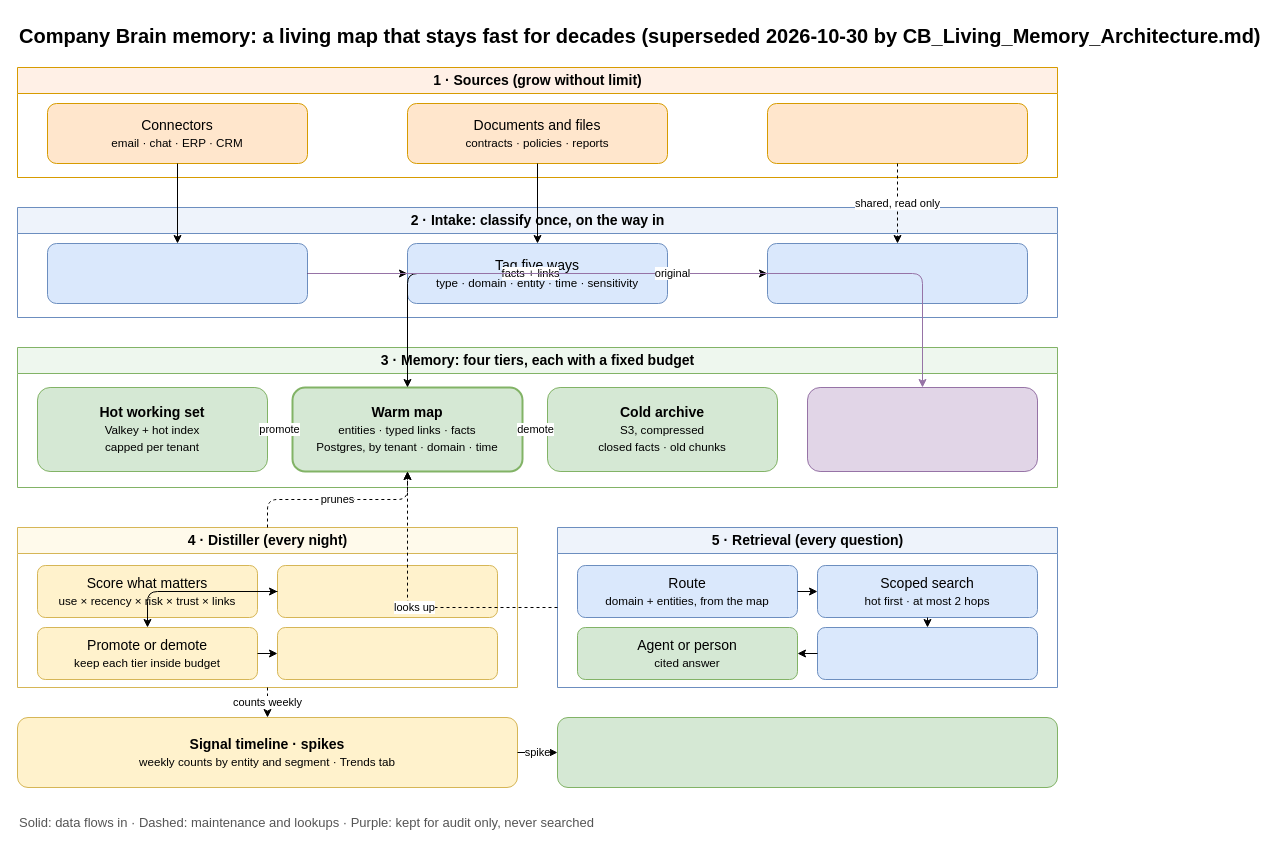
This 1279x854 diagram has some shape labels left out. The shapes that lost their labels are listed below. From the top down, each one's centre as x and y in pixels, then its label:
At pixel 897 133: "Public commons laws · markets · competitors".
At pixel 177 273: "Capture and mask S1 · S2".
At pixel 897 273: "Resolve entity, dedup one node per real thing".
At pixel 922 429: "Raw vault S3, never edited deleted on a retention clock".
At pixel 387 591: "Merge and summarize many events become one fact".
At pixel 387 653: "Expire raw by retention rule".
At pixel 927 653: "Rerank, fit budget about 6k tokens, always".
At pixel 807 752: "Owner alerted unusual week, with the cases".
